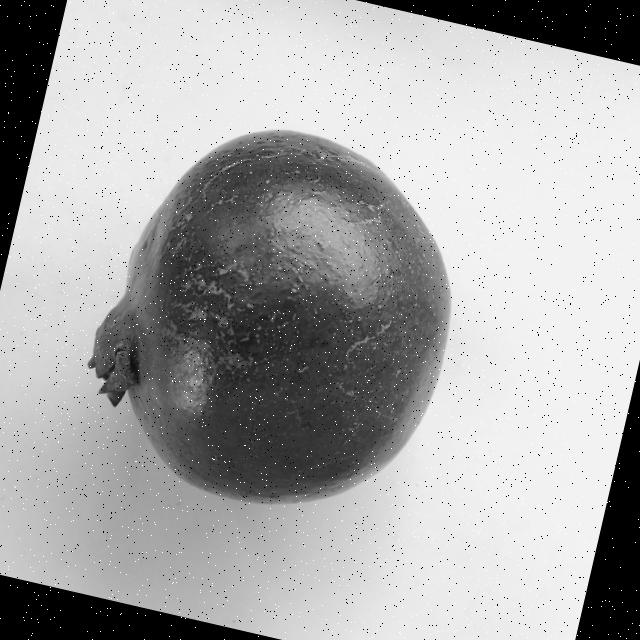Ripe: (58, 90, 488, 540)
